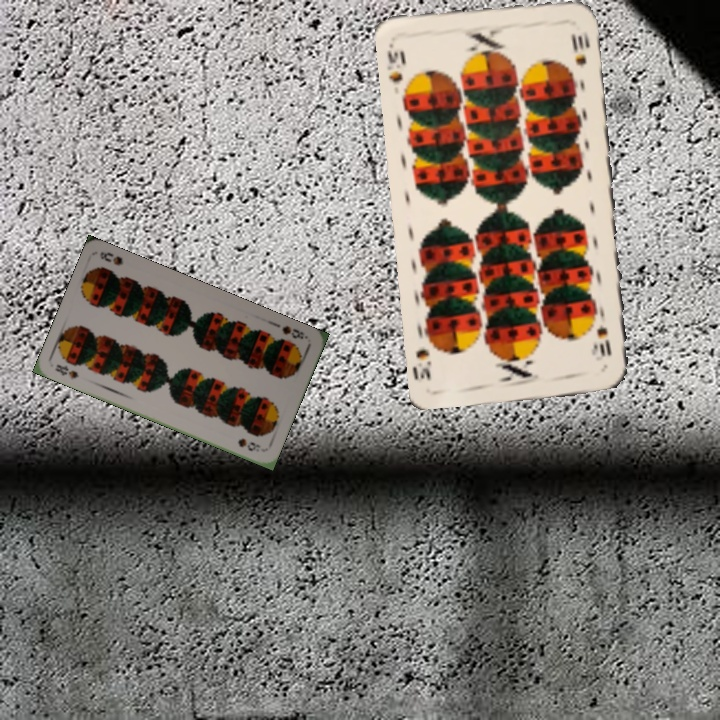S10: (383, 46, 409, 85), (594, 321, 614, 359)
S8: (278, 322, 310, 342), (51, 360, 81, 381)
